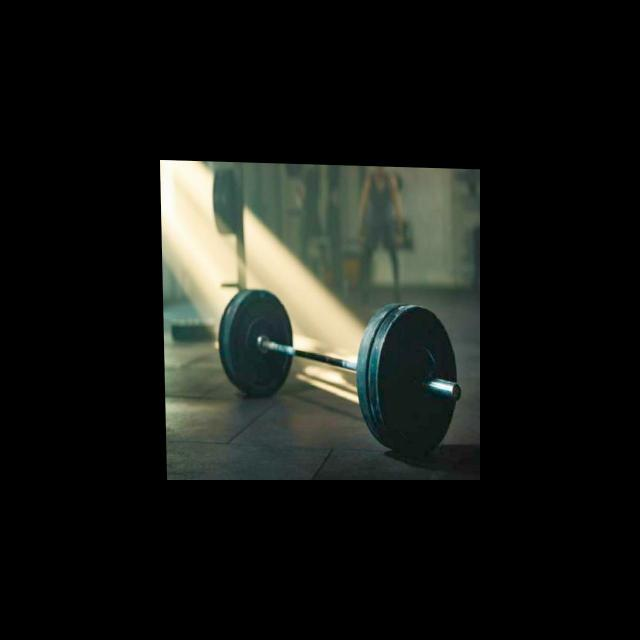barbell: (370, 297, 472, 460)
